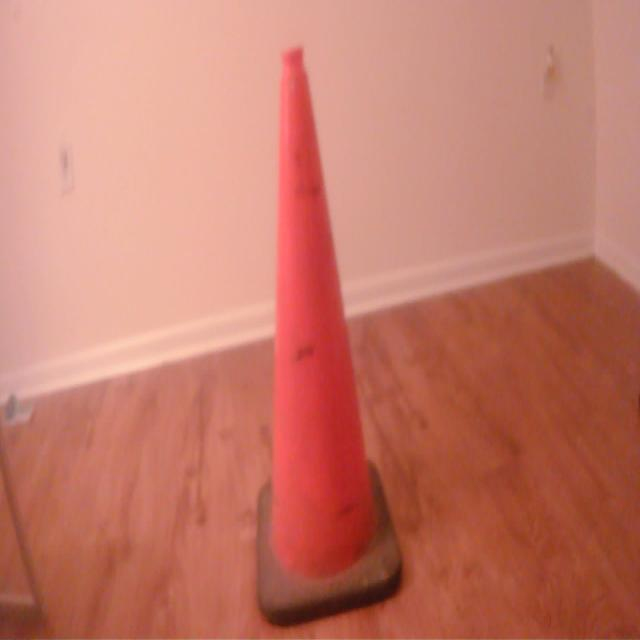traffic cone: (248, 35, 410, 637)
